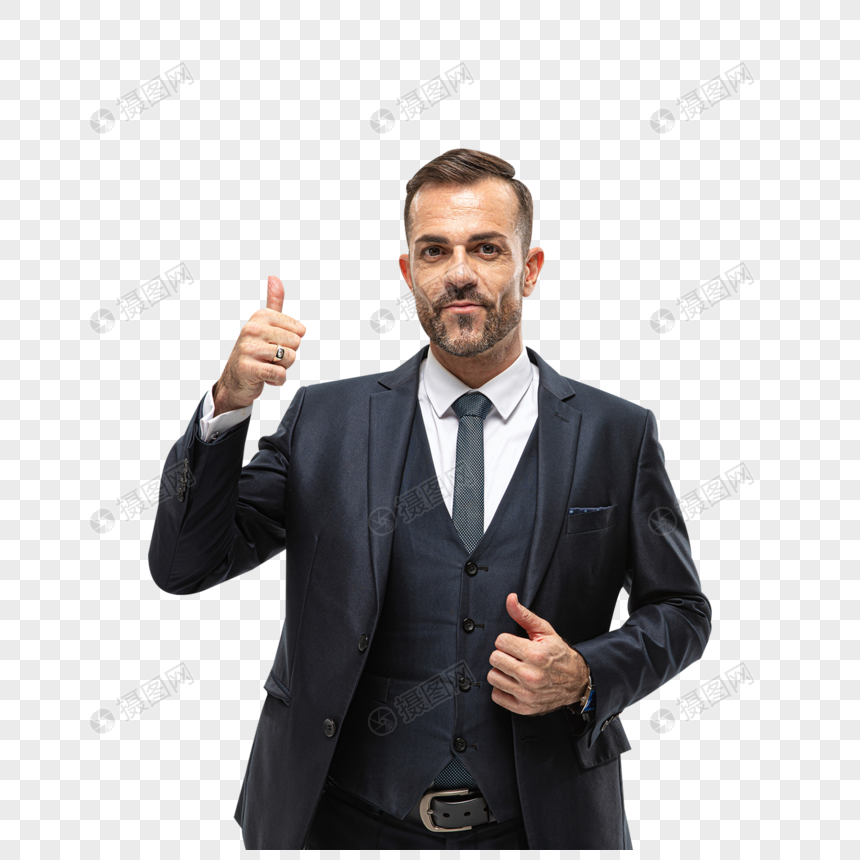no-phone: (464, 579, 600, 727), (192, 257, 314, 420)
